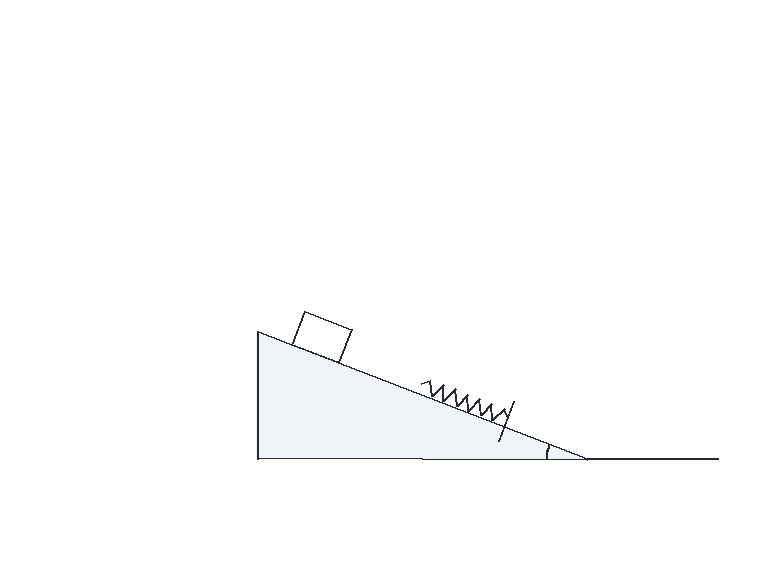block: (290, 309, 352, 364)
ramp: (255, 329, 589, 460)
spring: (420, 379, 510, 422)
